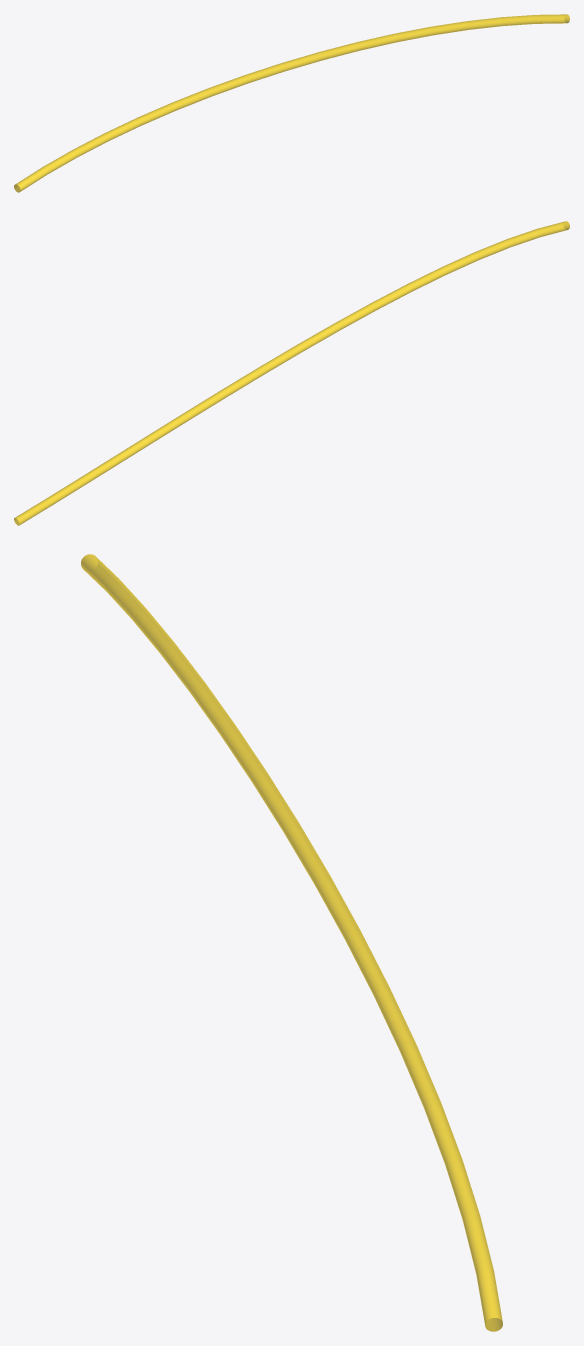
Rendered from Event_17758602_track_84.fbx.
The picture shows the model from 3 angles, top to bottom: view 1: azimuth 30°, elevation 25°; view 2: azimuth 210°, elevation 25°; view 3: azimuth 270°, elevation 25°; orthographic projection. The views are drawn at different scales.
Visible parts, largest first — view 1: Model; view 2: Model; view 3: Model.
Part boxes in pixels (left/top/right/bottom): Model: left=14, top=14, right=569, bottom=192; Model: left=14, top=221, right=569, bottom=525; Model: left=81, top=554, right=502, bottom=1331.
Bounding box in the file's own units: 3.33 × 0.4003 × 0.9319.
